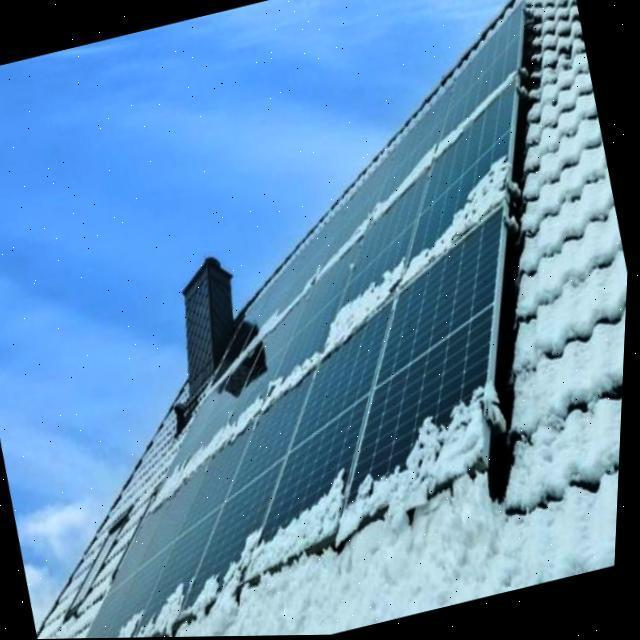Snow: (153, 154, 510, 514), (213, 69, 517, 392), (226, 384, 488, 593), (118, 570, 226, 638), (346, 257, 363, 278)
